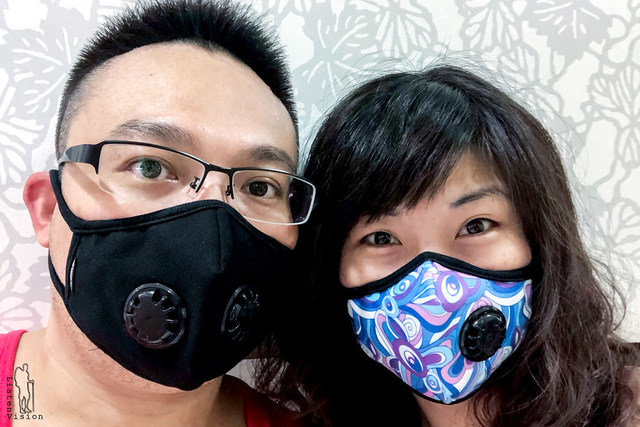mask: (80, 211, 284, 372), (346, 271, 539, 378)
